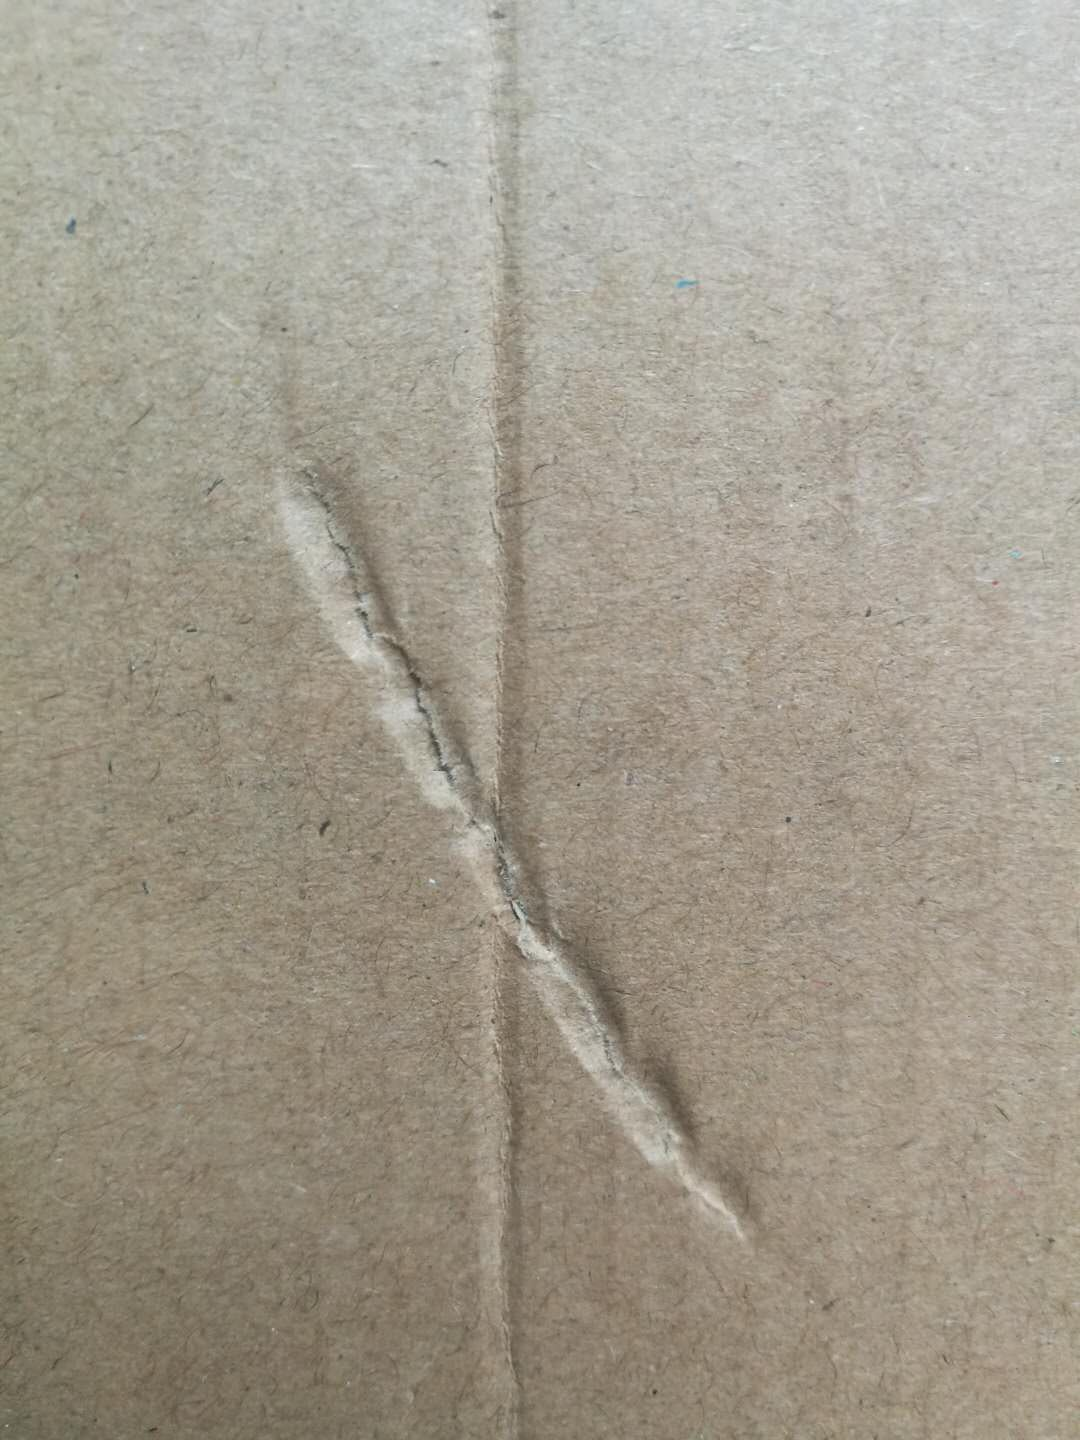defect: (239, 332, 792, 1281), (377, 2, 649, 1440)
